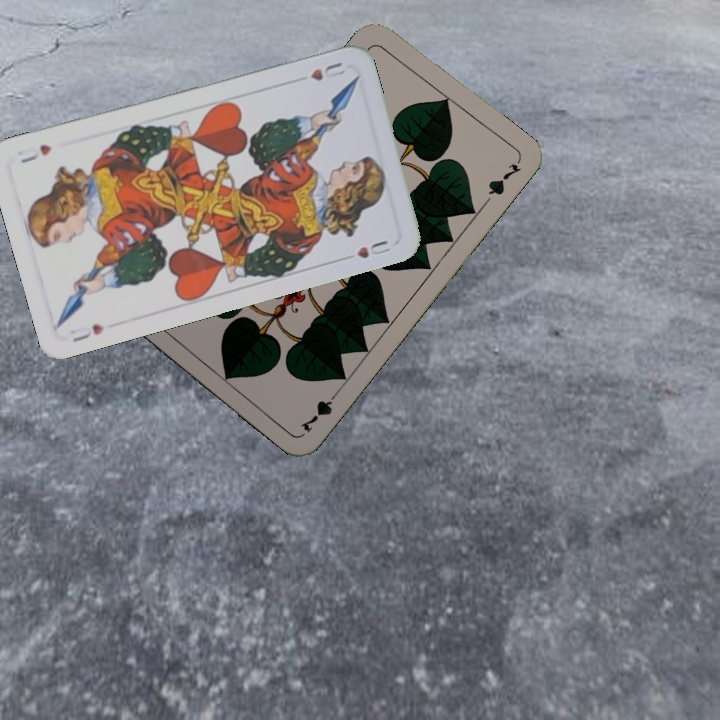G7: (295, 385, 342, 435)
HU: (65, 319, 107, 345), (306, 58, 348, 83)
